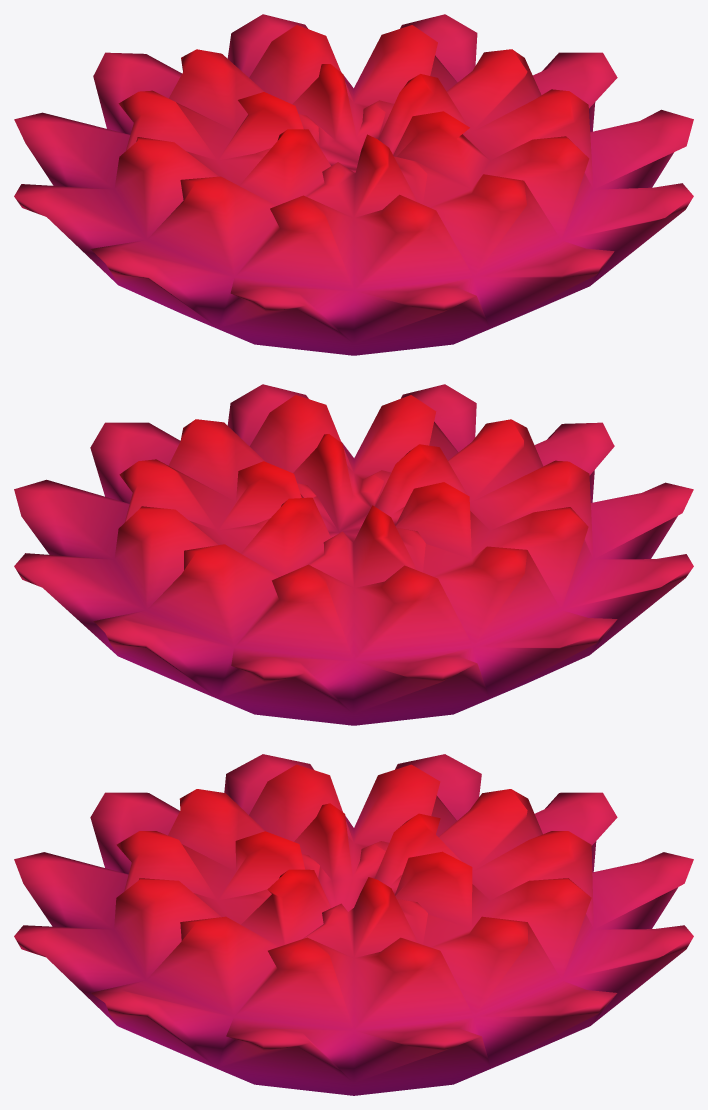
The model's file is anemone_near3.fbx.
3 renders of one model, top to bottom at view 1: azimuth 30°, elevation 25°; view 2: azimuth 150°, elevation 25°; view 3: azimuth 270°, elevation 25°, orthographic.
Visible parts, largest first — view 1: anemone_near3; view 2: anemone_near3; view 3: anemone_near3.
Boxes of the visible parts, bbox=[...] form: anemone_near3: bbox=[14, 14, 693, 355]; anemone_near3: bbox=[14, 384, 693, 725]; anemone_near3: bbox=[14, 754, 693, 1095].
Bounding box in the file's own units: 0.0187 × 0.00618 × 0.0187.
1 material, 1 textured.
